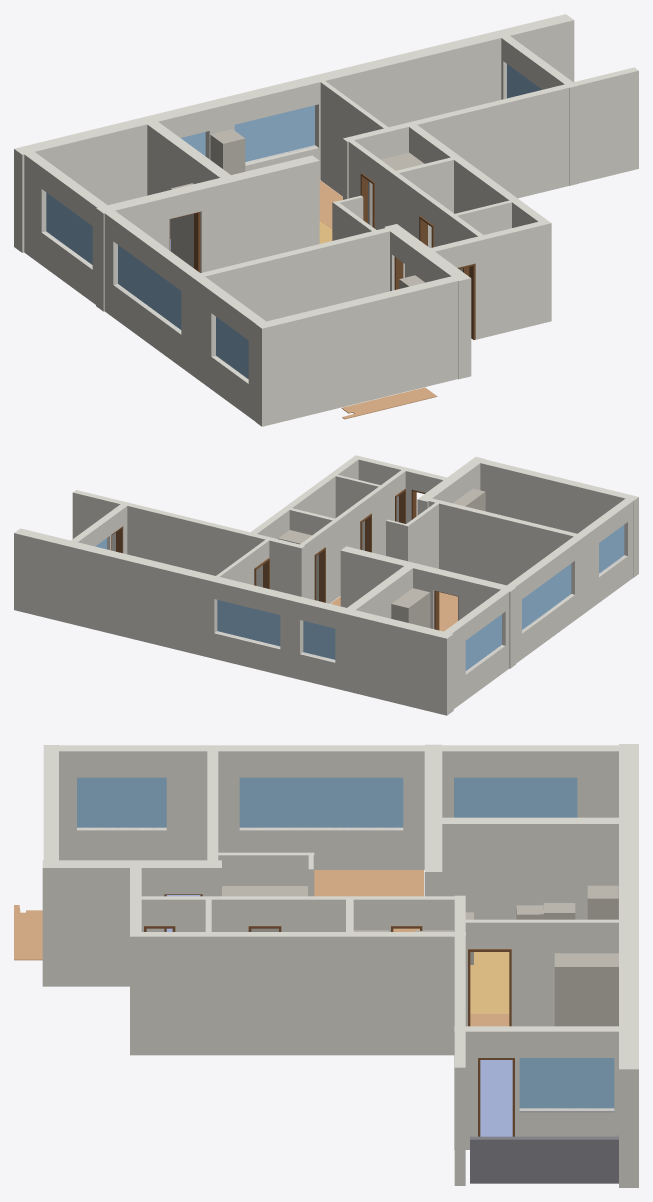
The picture shows the model from 3 angles, top to bottom: view 1: azimuth 30°, elevation 25°; view 2: azimuth 150°, elevation 25°; view 3: azimuth 270°, elevation 25°; orthographic projection. The views are drawn at different scales.
Visible parts, largest first — view 1: walls, window_0, window_7, window_3, furniture_1_closet, window_5, floor_11_Living_Room, furniture_2_closet, furniture_3_closet, floor_2_Living_Room, window_2; view 2: walls, window_0, window_7, furniture_2_closet, window_3, window_1, window_5, floor_3_Living_Room, door_10, furniture_6_closet, furniture_4_closet; view 3: walls, window_7, railings, window_3, window_2, furniture_0_closet, window_5, floor_3_Living_Room, floor_5_Bed_Room, floor_1_Kitchen, floor_11_Living_Room, furniture_1_closet (+1 smaller).
Boxes of the visible parts, x1,y1,x2,y2 form: walls: (14,14,638,426); window_0: (234,105,314,161); window_7: (118,245,181,329); window_3: (46,192,92,264); furniture_1_closet: (210,129,245,174); window_5: (216,317,248,378); floor_11_Living_Room: (341,387,437,419); furniture_2_closet: (170,183,193,267); furniture_3_closet: (368,152,424,226); floor_2_Living_Room: (319,180,342,228); window_2: (507,64,541,98); walls: (14,455,638,715); window_0: (217,600,280,646); window_7: (522,564,571,629); furniture_2_closet: (391,588,430,627); window_3: (465,614,501,670); window_1: (303,621,335,659); window_5: (599,525,624,573); floor_3_Living_Room: (330,592,457,631); door_10: (314,547,325,602); furniture_6_closet: (453,488,485,511); furniture_4_closet: (278,530,318,600); walls: (42,744,638,1187); window_7: (239,777,403,827); railings: (470,1135,618,1183); window_3: (454,777,577,817); window_2: (519,1058,614,1108); furniture_0_closet: (554,953,618,1026); window_5: (77,777,166,827); floor_3_Living_Room: (314,870,423,931); floor_5_Bed_Room: (480,1060,512,1136); floor_1_Kitchen: (470,952,509,1013); floor_11_Living_Room: (14,905,42,960); furniture_1_closet: (587,885,618,919).
Bounding box in the file's own units: 15.89 × 2.72 × 12.9.
